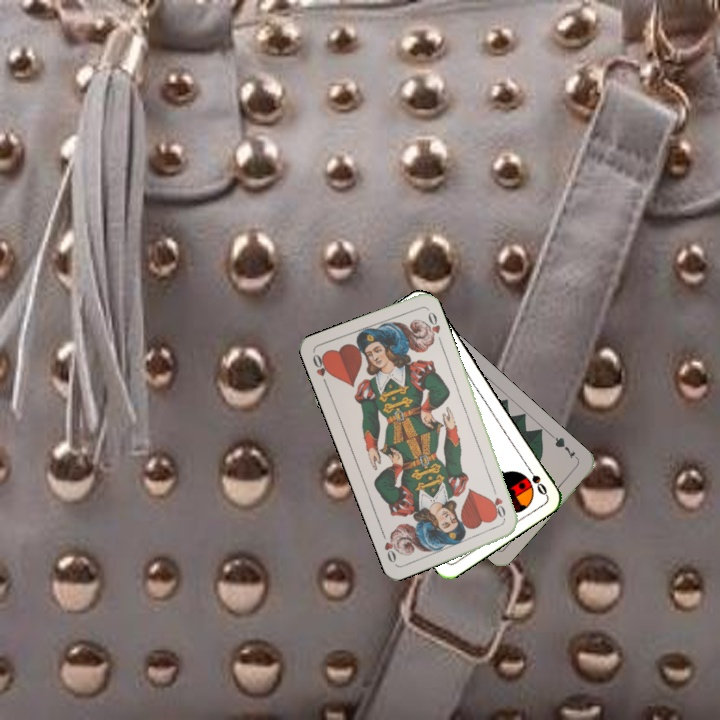G7: (548, 431, 581, 463)
HO: (308, 350, 333, 389), (488, 483, 508, 522)
SO: (522, 461, 550, 498)
